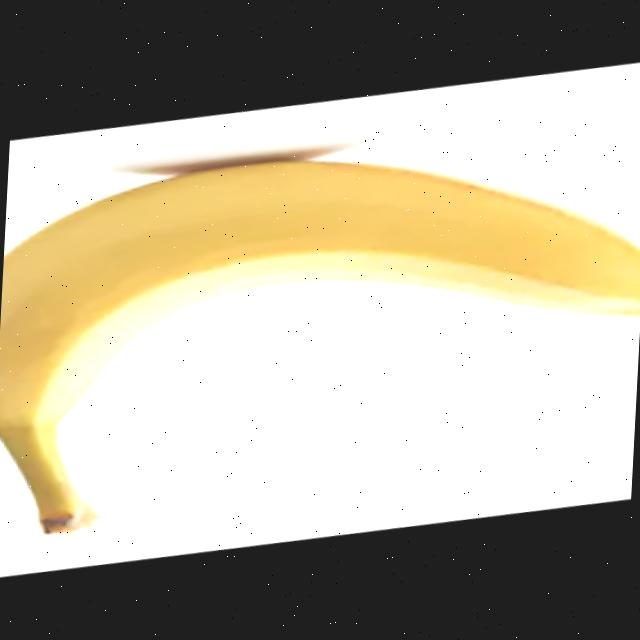banana: (0, 142, 640, 565)
